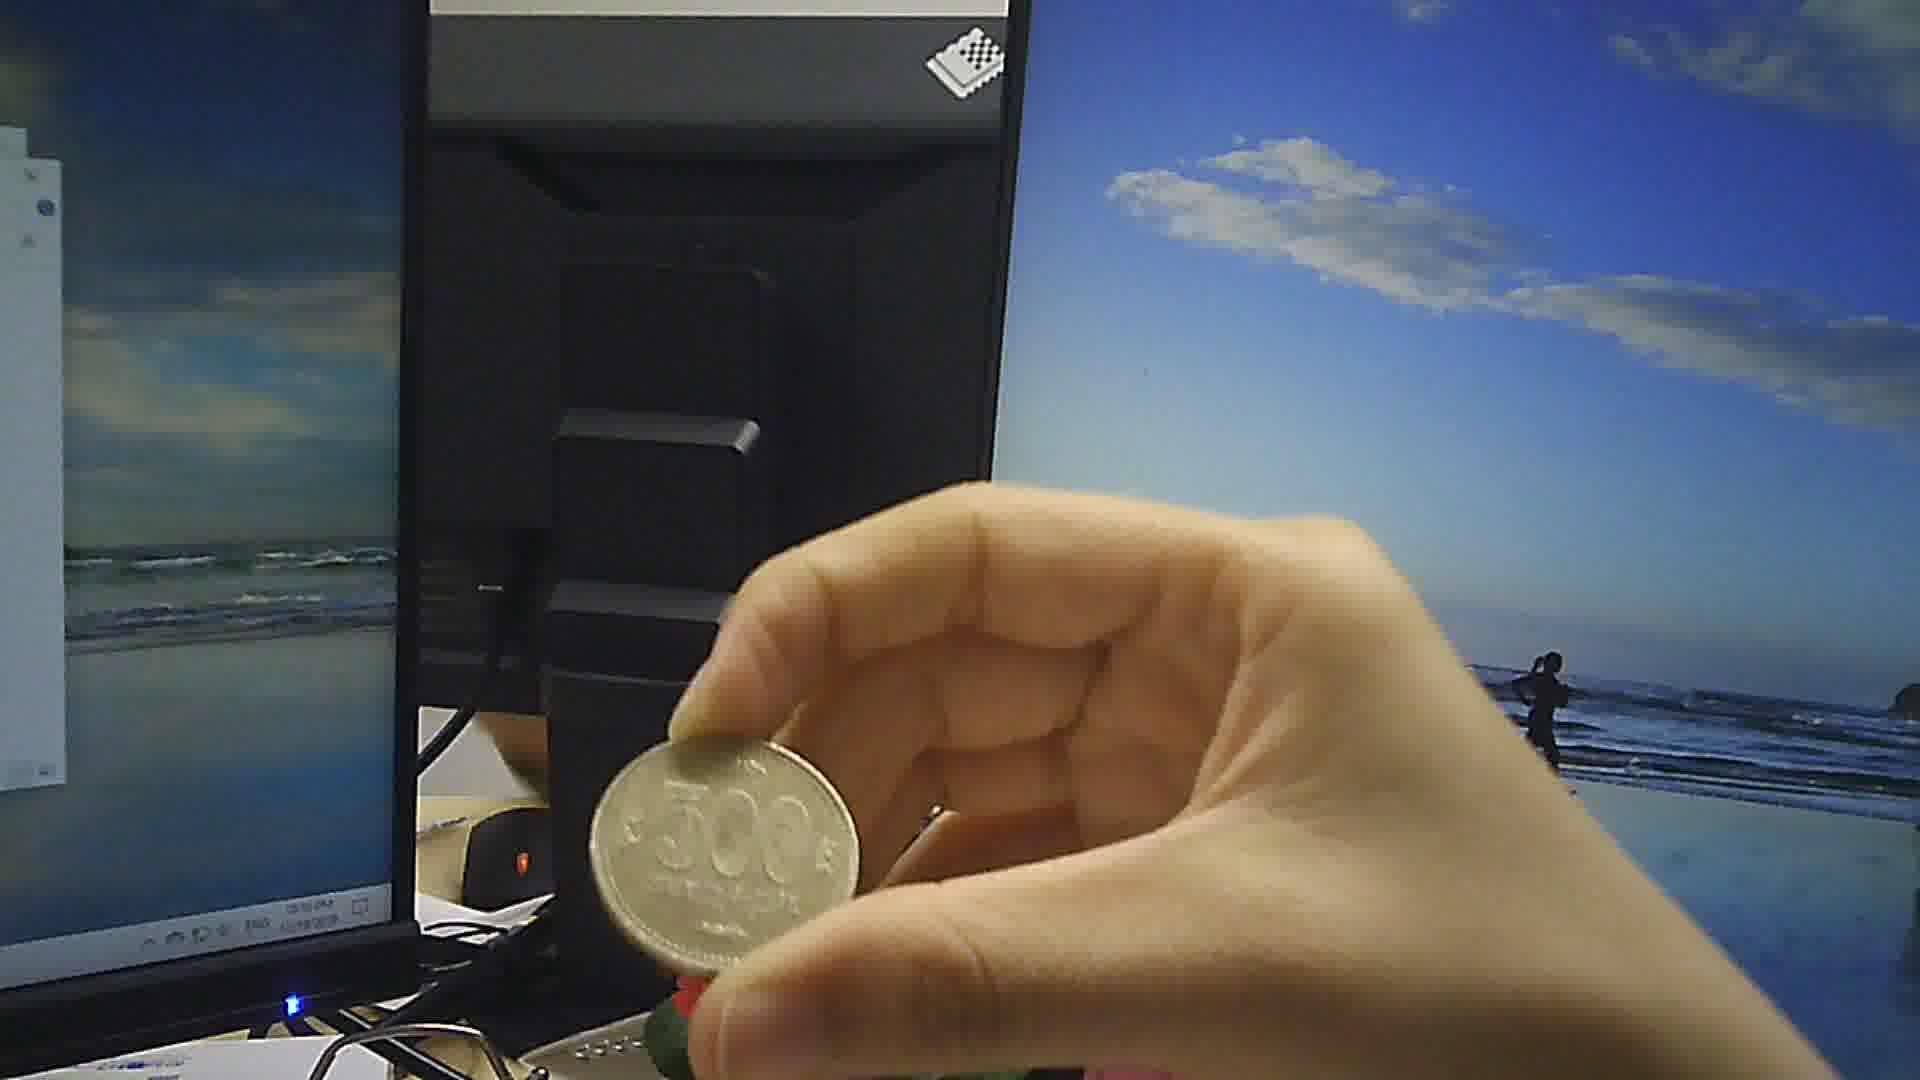500 Yen: (592, 729, 864, 971)
